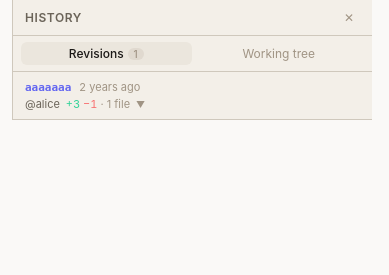
Test: RevisionBrowser › expands a revision to load and show its diff
The image size is (389, 275).
Click the text "aaaaaaa": (48, 87) top-left (25, 80), bottom-right (71, 94)
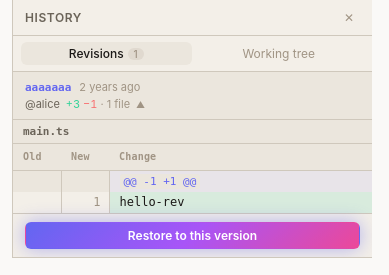
expect the text "hello-rev" is shown: met, box top-left (120, 195), bottom-right (184, 209)
